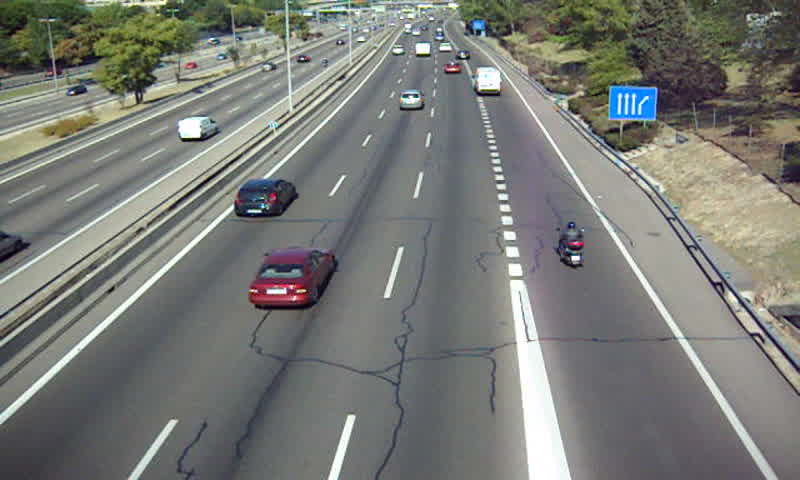car: (249, 248, 334, 309), (234, 177, 297, 217), (397, 88, 423, 111), (441, 61, 462, 76), (438, 41, 453, 53), (456, 49, 470, 60), (390, 45, 404, 56)
motorcycle: (555, 220, 586, 269)
van: (472, 67, 502, 95), (413, 42, 429, 57)
